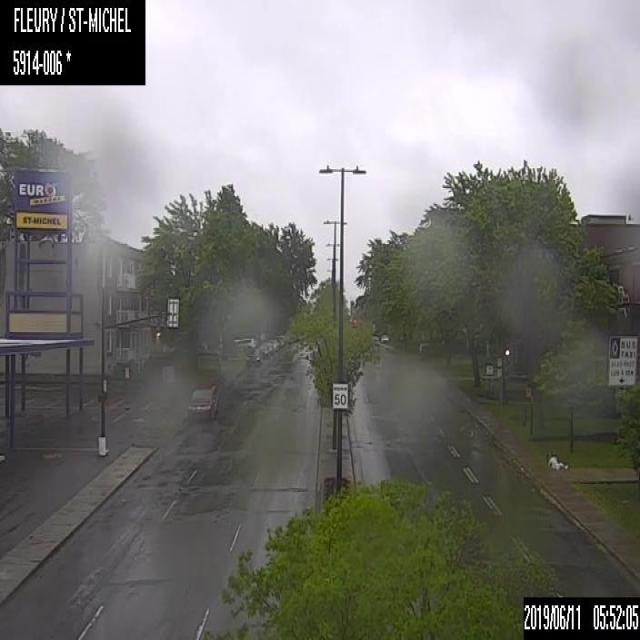vehicle: (186, 386, 218, 418), (244, 347, 263, 368), (232, 337, 254, 349), (268, 338, 279, 351), (262, 340, 272, 354), (258, 344, 268, 356)
